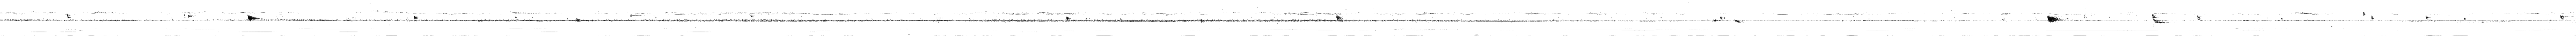meteor: (2047, 16, 2063, 21), (248, 15, 260, 20), (2154, 18, 2165, 23), (1336, 15, 1342, 20), (2560, 15, 2568, 18), (2426, 15, 2431, 20), (187, 15, 194, 18), (1735, 20, 1741, 23), (2152, 15, 2157, 18), (2371, 15, 2374, 20), (2362, 11, 2366, 16), (414, 16, 417, 20), (1066, 16, 1069, 20)
